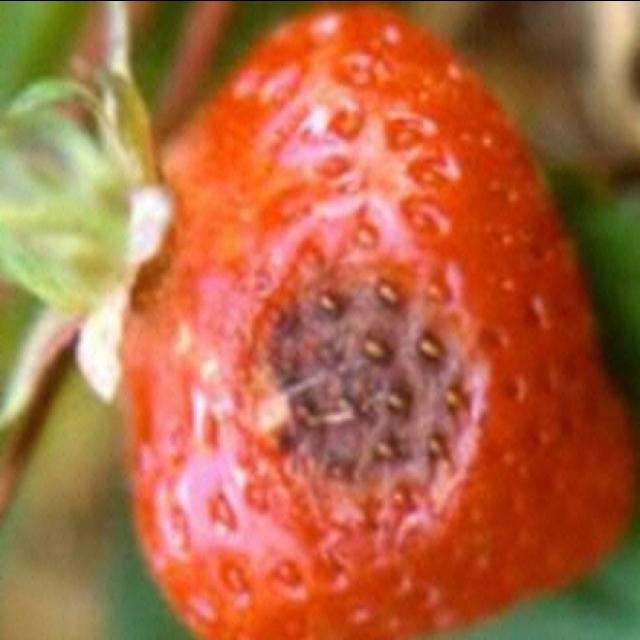Anthracnose Fruit Rot: (253, 256, 475, 543)
